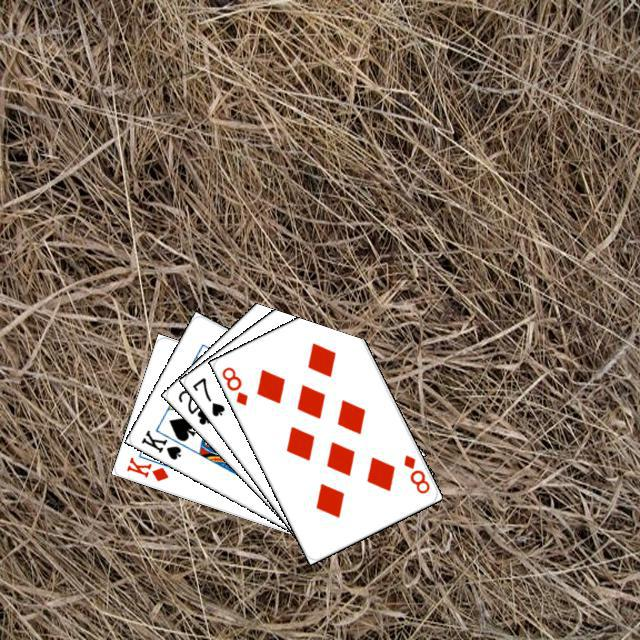2c: (173, 385, 214, 427)
7s: (187, 372, 227, 418)
8d: (217, 362, 250, 407), (398, 450, 431, 495)
Kd: (121, 452, 170, 483)
Ks: (136, 425, 183, 462)
